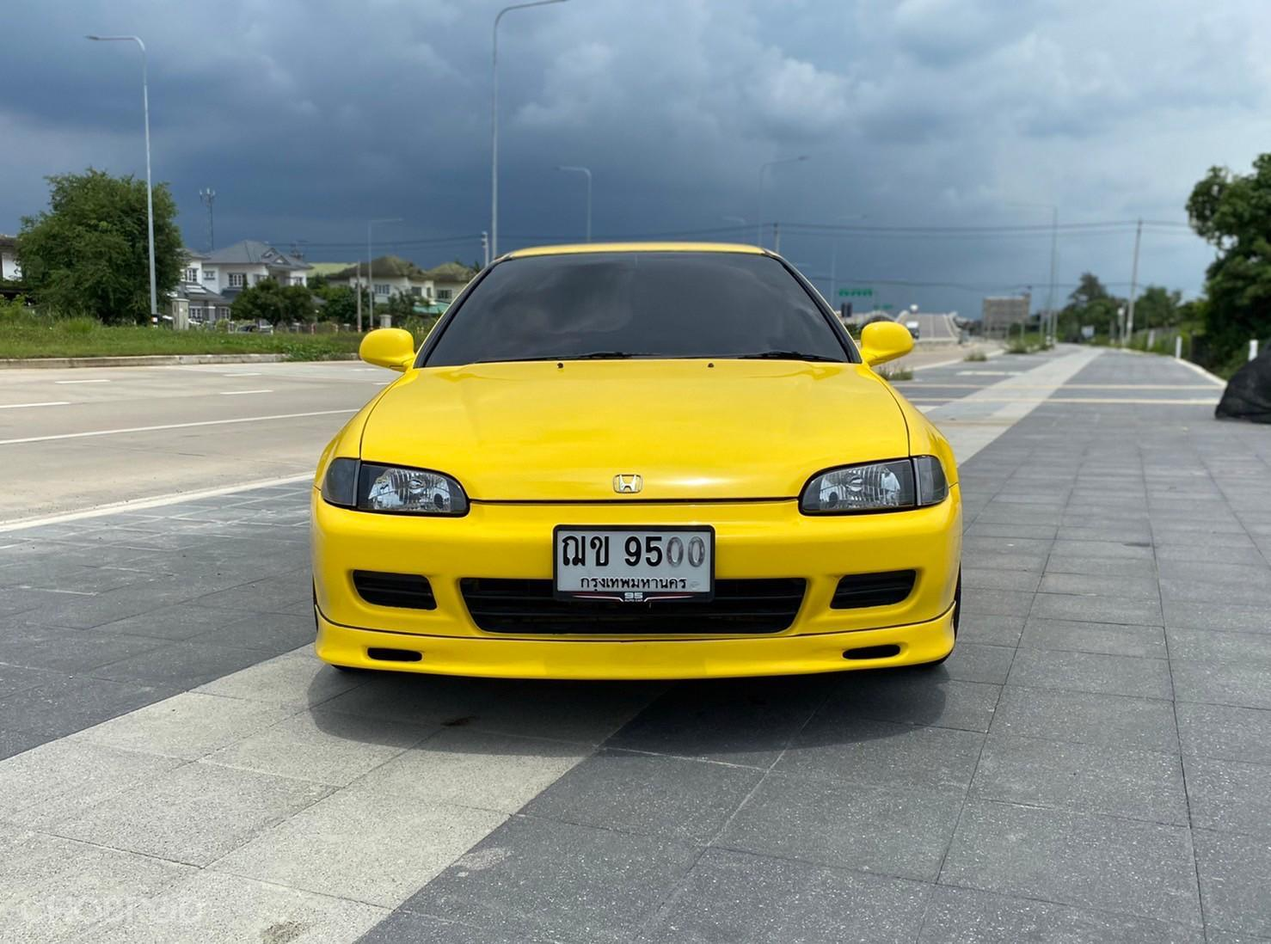license-plate: (551, 522, 720, 602)
